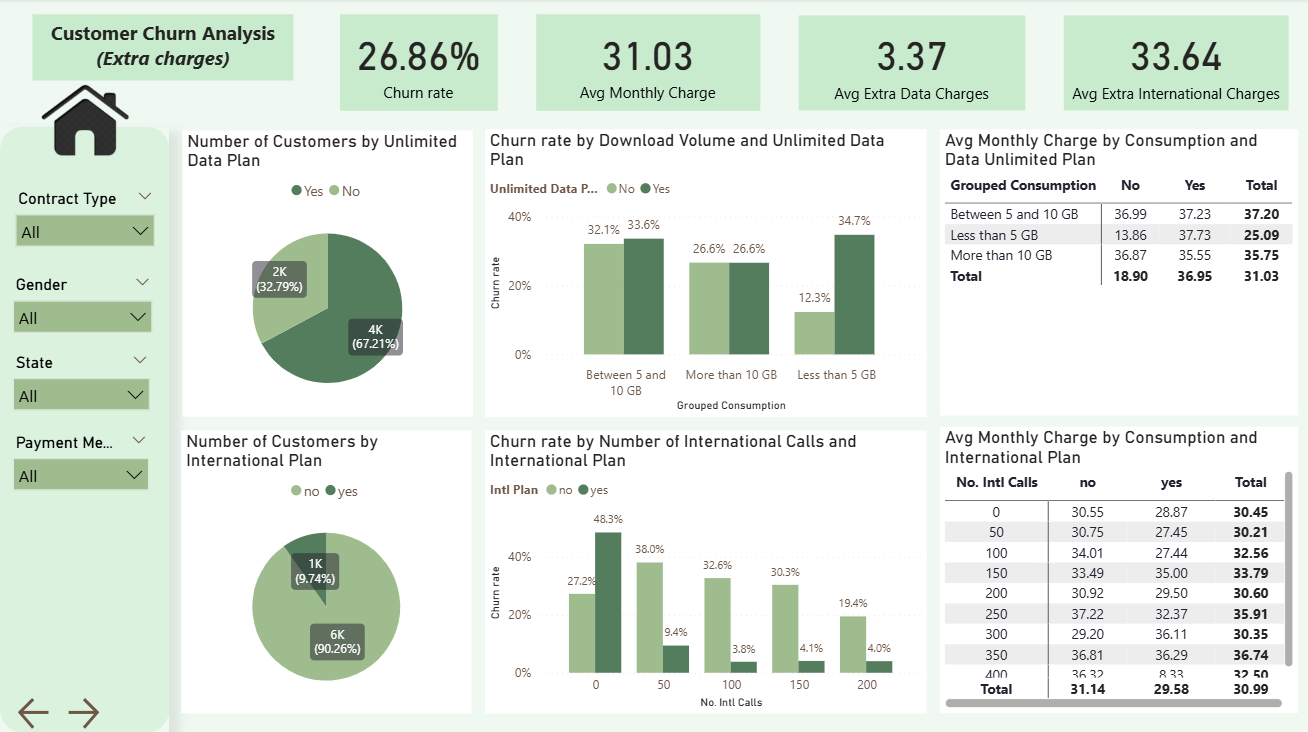

The dashboard page shown, as its layout file describes it:
{"tool":"powerbi","page":{"name":"Extra charges","canvas":[1280,720],"ordinal":2},"visuals":[{"type":"shape","box":[0,125.7,165.7,592.9],"z":0},{"type":"textbox","box":[31.7,15.9,258.3,37.5],"z":1000},{"type":"image","box":[32.3,61.5,103.1,107.7],"z":2000},{"type":"slicer","fields":{"Values":["Databel - Data.Contract Type"]},"box":[4.9,182.2,156.5,84.4],"z":3000},{"type":"slicer","fields":{"Values":["Databel - Data.Gender"]},"box":[2.4,266.6,156.5,75.8],"z":4000},{"type":"slicer","fields":{"Values":["Databel - Data.State"]},"box":[2.4,342.4,154.1,78.3],"z":5000},{"type":"actionButton","box":[13,679.5,47.6,40.4],"z":6000},{"type":"actionButton","box":[60.6,679.5,44.7,40.4],"z":7000},{"type":"slicer","fields":{"Values":["Databel - Data.Payment Method"]},"box":[2.4,420.7,152.9,80.7],"z":8000},{"type":"card","fields":{"Values":["Avg(Databel - Data.Monthly Charge)"]},"box":[524.6,15.9,218.9,94.2],"z":9000},{"type":"card","fields":{"Values":["Avg(Databel - Data.Extra Data Charges)"]},"box":[781.4,17.1,221.3,92.9],"z":10000},{"type":"card","fields":{"Values":["Avg(Databel - Data.Extra International Charges)"]},"box":[1040.6,17.1,220.1,92.9],"z":11000},{"type":"clusteredColumnChart","title":"Churn rate by Consumption Level and Unlimited Data Plan","fields":{"Series":["Databel - Data.Unlimited Data Plan"],"Category":["Databel - Data.Grouped Consumption"],"Y":["_Measures.Churn rate"]},"box":[474.7,128.4,432,281.3],"z":12000},{"type":"clusteredColumnChart","title":"Churn rate by Number of International Calls and International Plan","fields":{"Y":["_Measures.Churn rate"],"Series":["Databel - Data.Intl Plan"],"Category":["Databel - Data.No. Intl Calls"]},"box":[474.7,422.7,432,277],"z":13000},{"type":"card","fields":{"Values":["_Measures.Churn rate"]},"box":[332.6,15.9,154.1,94.2],"z":14000},{"type":"pieChart","fields":{"Category":["Databel - Data.Unlimited Data Plan"],"Y":["_Measures.Number of Customers"]},"box":[178,129.8,284.2,279.9],"z":15000},{"type":"pieChart","title":"Number of Customers by International Plan","fields":{"Y":["_Measures.Number of Customers"],"Category":["Databel - Data.Intl Plan"]},"box":[177.5,422.7,284.2,277],"z":16000},{"type":"pivotTable","title":"Avg Monthly Charge by Consumption and Data Unlimited Plan","fields":{"Rows":["Databel - Data.Grouped Consumption"],"Columns":["Databel - Data.Unlimited Data Plan"],"Values":["Avg(Databel - Data.Monthly Charge)"]},"box":[919,128.4,350.6,279.9],"z":17000},{"type":"pivotTable","title":"Avg Monthly Charge by Consumption and International Plan","fields":{"Values":["Avg(Databel - Data.Monthly Charge)"],"Columns":["Databel - Data.Intl Plan"],"Rows":["Databel - Data.No. Intl Calls"]},"box":[919,419.8,350.6,279.9],"z":18000},{"type":"slicer","fields":{"Values":["Databel - Data.Age (bins)"]},"box":[2.9,489.1,152.9,72.1],"z":18001}]}

Visuals, with their boxes in screenshot pixels (x1, y1, x2, y2), scaled from the page's 1280x720 canvas onto the 1308x732 screenshot:
shape: <box>0,128,169,731</box>
textbox: <box>32,16,296,54</box>
image: <box>33,63,138,172</box>
slicer - Databel - Data.Contract Type: <box>5,185,165,271</box>
slicer - Databel - Data.Gender: <box>2,271,162,348</box>
slicer - Databel - Data.State: <box>2,348,160,428</box>
actionButton: <box>13,691,62,731</box>
actionButton: <box>62,691,108,731</box>
slicer - Databel - Data.Payment Method: <box>2,428,159,510</box>
card - Avg(Databel - Data.Monthly Charge): <box>536,16,760,112</box>
card - Avg(Databel - Data.Extra Data Charges): <box>798,17,1025,112</box>
card - Avg(Databel - Data.Extra International Charges): <box>1063,17,1288,112</box>
"Churn rate by Consumption Level and Unlimited Data Plan" clusteredColumnChart: <box>485,131,927,417</box>
"Churn rate by Number of International Calls and International Plan" clusteredColumnChart: <box>485,430,927,711</box>
card - _Measures.Churn rate: <box>340,16,497,112</box>
pieChart - Databel - Data.Unlimited Data Plan x _Measures.Number of Customers: <box>182,132,472,417</box>
"Number of Customers by International Plan" pieChart: <box>181,430,472,711</box>
"Avg Monthly Charge by Consumption and Data Unlimited Plan" pivotTable: <box>939,131,1297,415</box>
"Avg Monthly Charge by Consumption and International Plan" pivotTable: <box>939,427,1297,711</box>
slicer - Databel - Data.Age (bins): <box>3,497,159,571</box>
